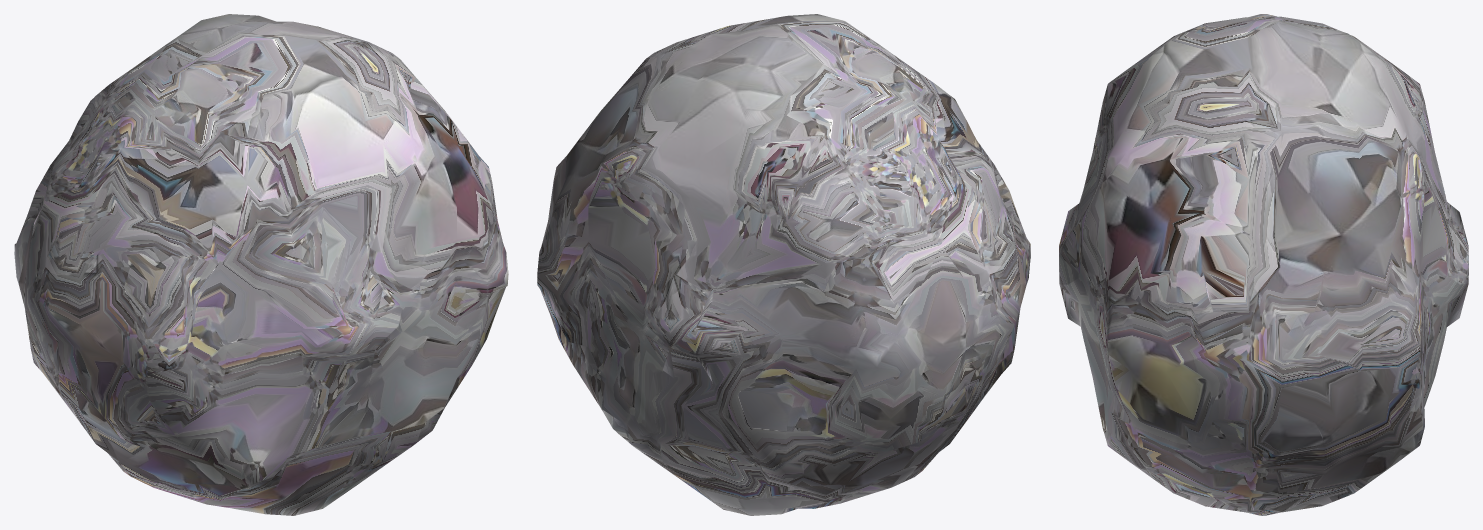
Rendered from crystal_2_small.glb.
3 views of the same model, side by side, from view 1: azimuth 30°, elevation 25°; view 2: azimuth 150°, elevation 25°; view 3: azimuth 270°, elevation 25° (orthographic).
Parts seen in each view (by area): view 1: crystal; view 2: crystal; view 3: crystal.
Boxes of the visible parts, x1=… form: crystal: x1=14, y1=14, x2=508, y2=515; crystal: x1=537, y1=14, x2=1030, y2=515; crystal: x1=1059, y1=14, x2=1468, y2=515.
Size of the model in its own units: 0.9354 by 0.9362 by 0.7419.
1 material, 1 textured.
